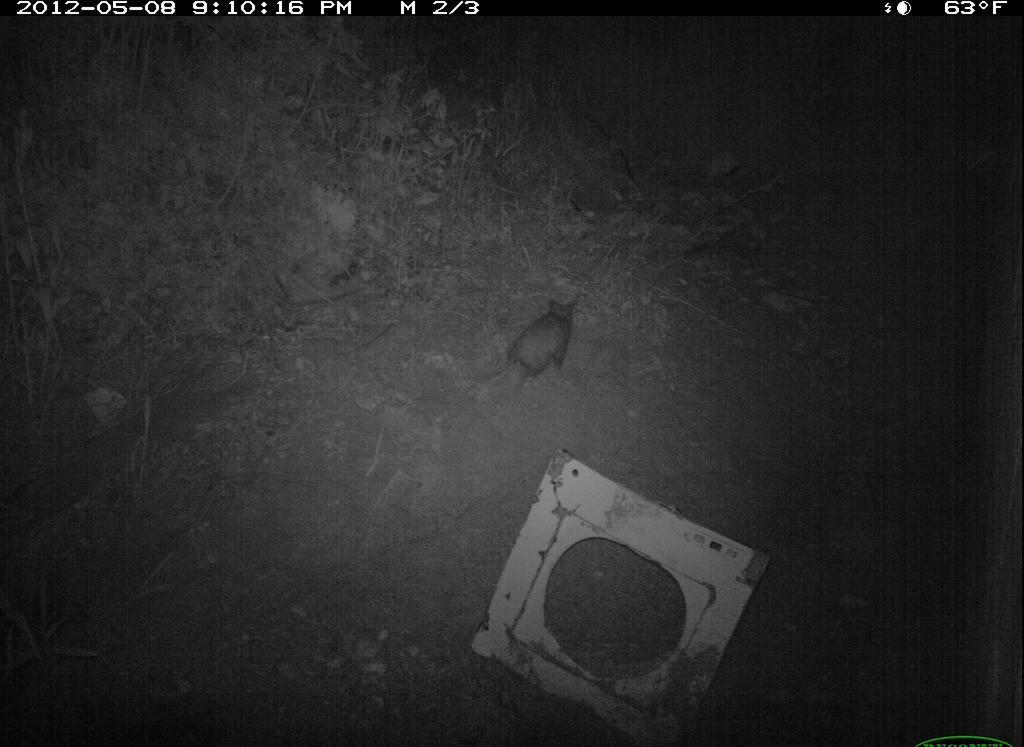opossum: (456, 294, 591, 401)
